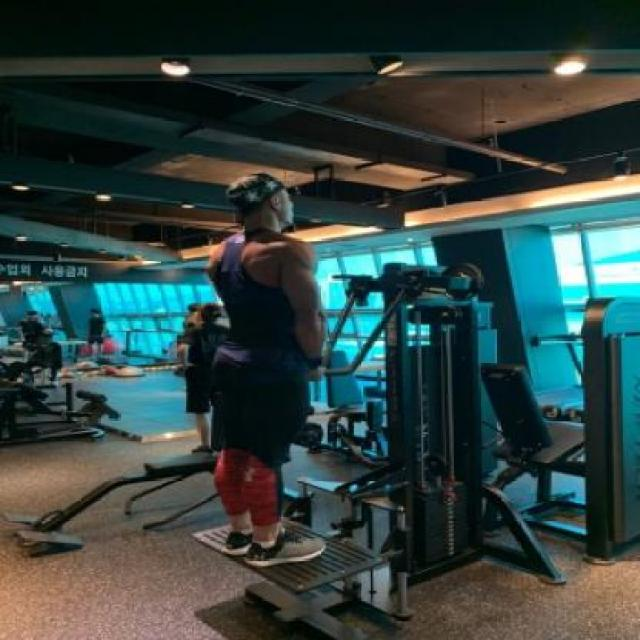lateral raises machine: (265, 263, 486, 640)
